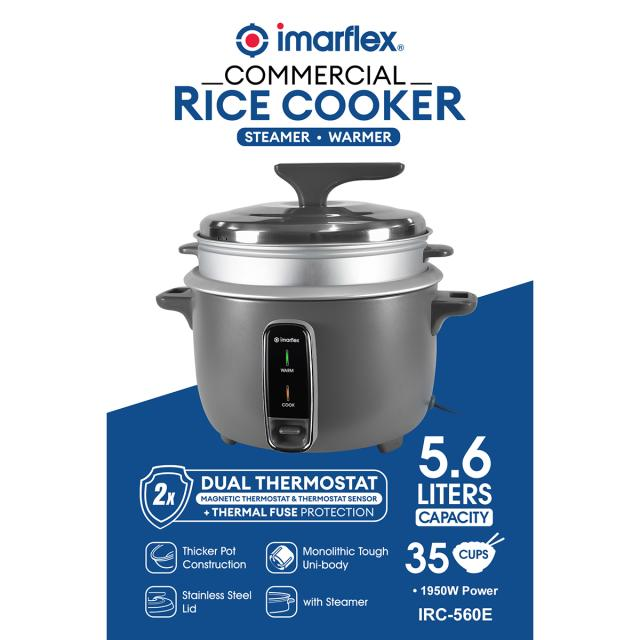appliances: (157, 163, 476, 451), (266, 589, 294, 614), (268, 545, 294, 570)
